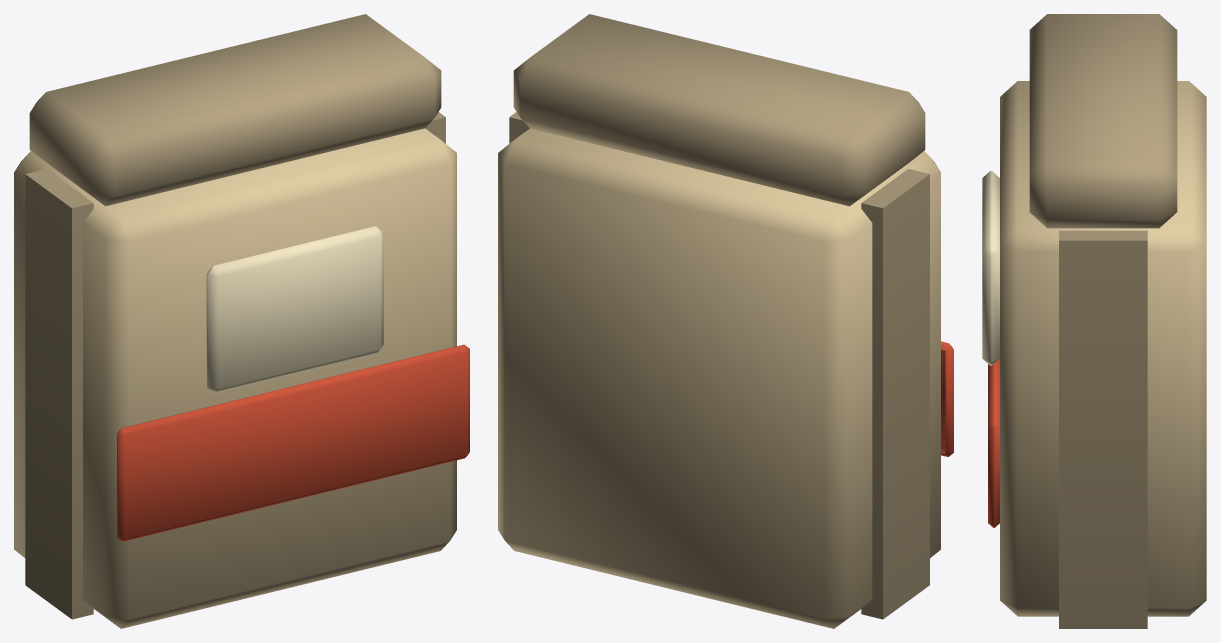
Rendered from SM_TakeoutBag_01.glb.
3 views of the same model, side by side, from view 1: azimuth 30°, elevation 25°; view 2: azimuth 150°, elevation 25°; view 3: azimuth 270°, elevation 25° (orthographic). The views are drawn at different scales.
Visible parts, largest first — view 1: SM_TakeoutBag_01; view 2: SM_TakeoutBag_01; view 3: SM_TakeoutBag_01.
Part boxes in pixels (x1,y1,x2,y2): SM_TakeoutBag_01: [14, 14, 469, 628]; SM_TakeoutBag_01: [498, 14, 953, 628]; SM_TakeoutBag_01: [982, 14, 1206, 628].
Bounding box in the file's own units: 0.276 × 0.34 × 0.152.
Materials: 1 (1 with a texture image).
